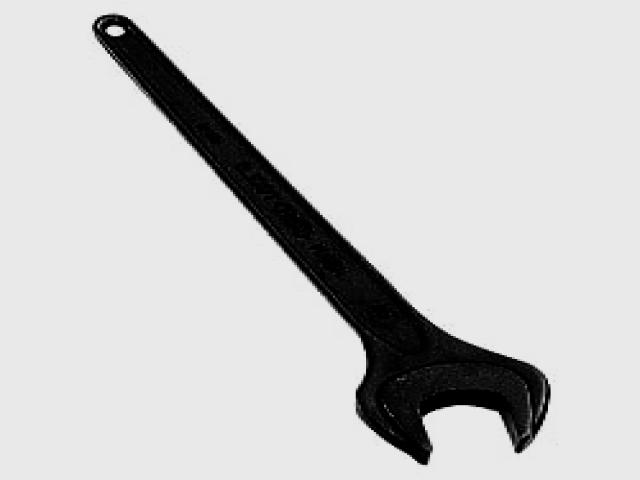Wrench: (94, 17, 548, 464)
